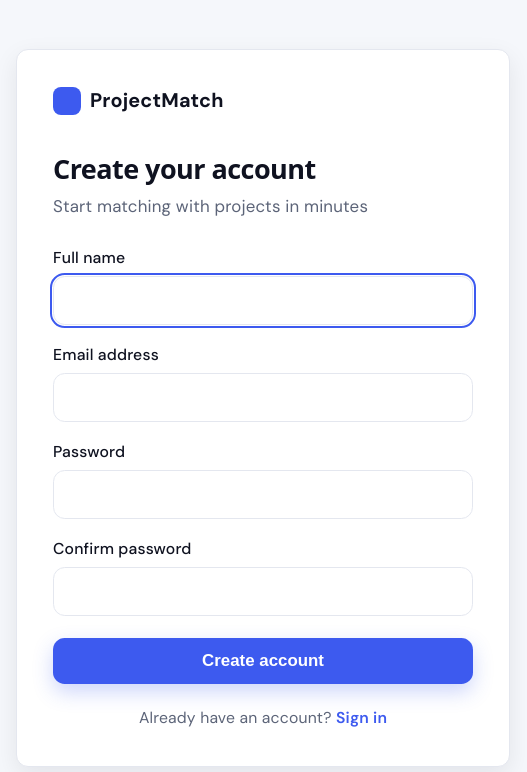
Test case: SignupPage — client-side validation › shows error when passwords do not match
Type "Test User" into the field labelled "Full name" at x=263, y=301, box top-left (53, 276), bottom-right (473, 325)
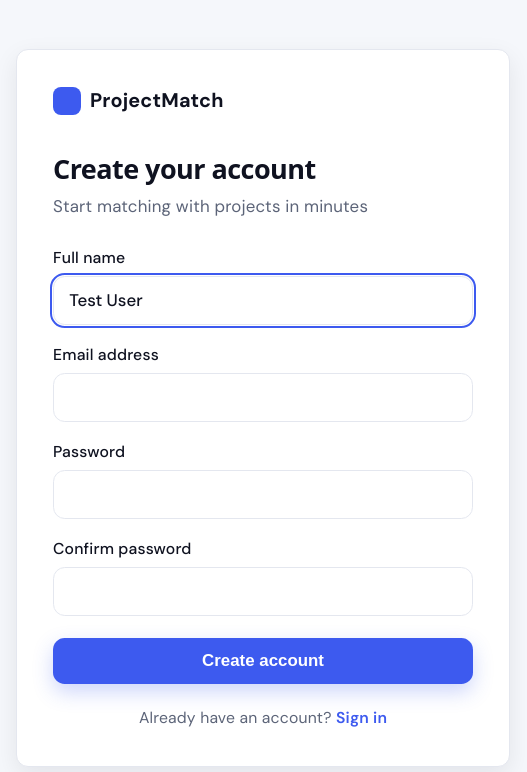
Type "test@example.com" into the field labelled "Email address" at x=263, y=398, box top-left (53, 373), bottom-right (473, 422)
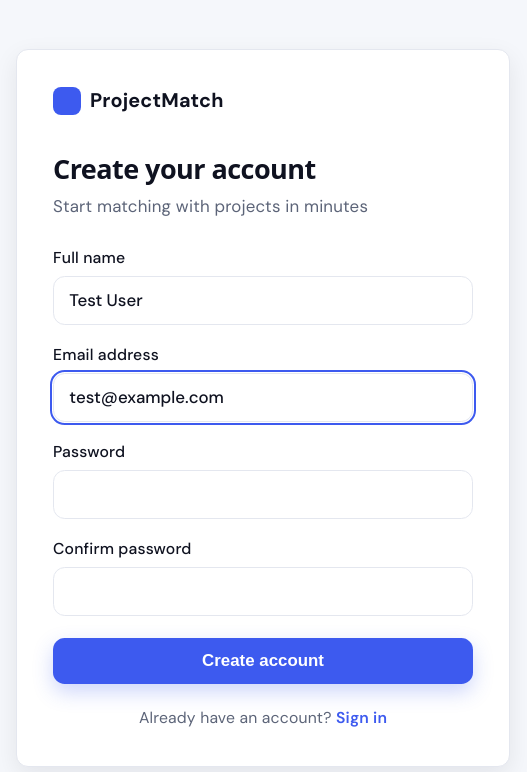
Type "password123" into the password field labelled "Password" at x=263, y=494, box top-left (53, 470), bottom-right (473, 519)
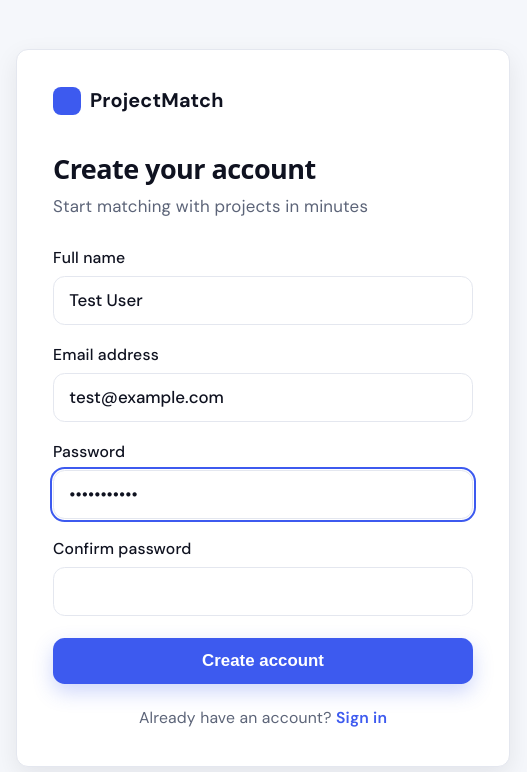
Type "differentpass" into the password field labelled "Confirm password" at x=263, y=591, box top-left (53, 567), bottom-right (473, 616)
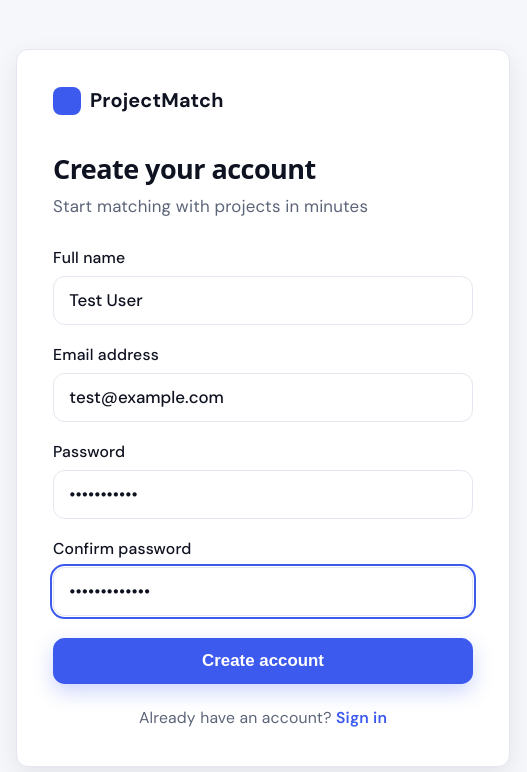
Click the button "Create account" at x=263, y=661, box top-left (53, 638), bottom-right (473, 684)
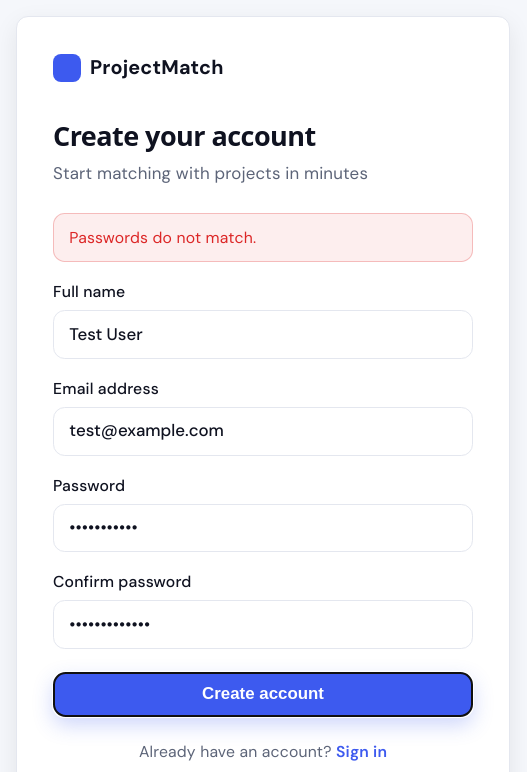
Result: the message shows "do not match" at top-left (69, 227), bottom-right (256, 248)
